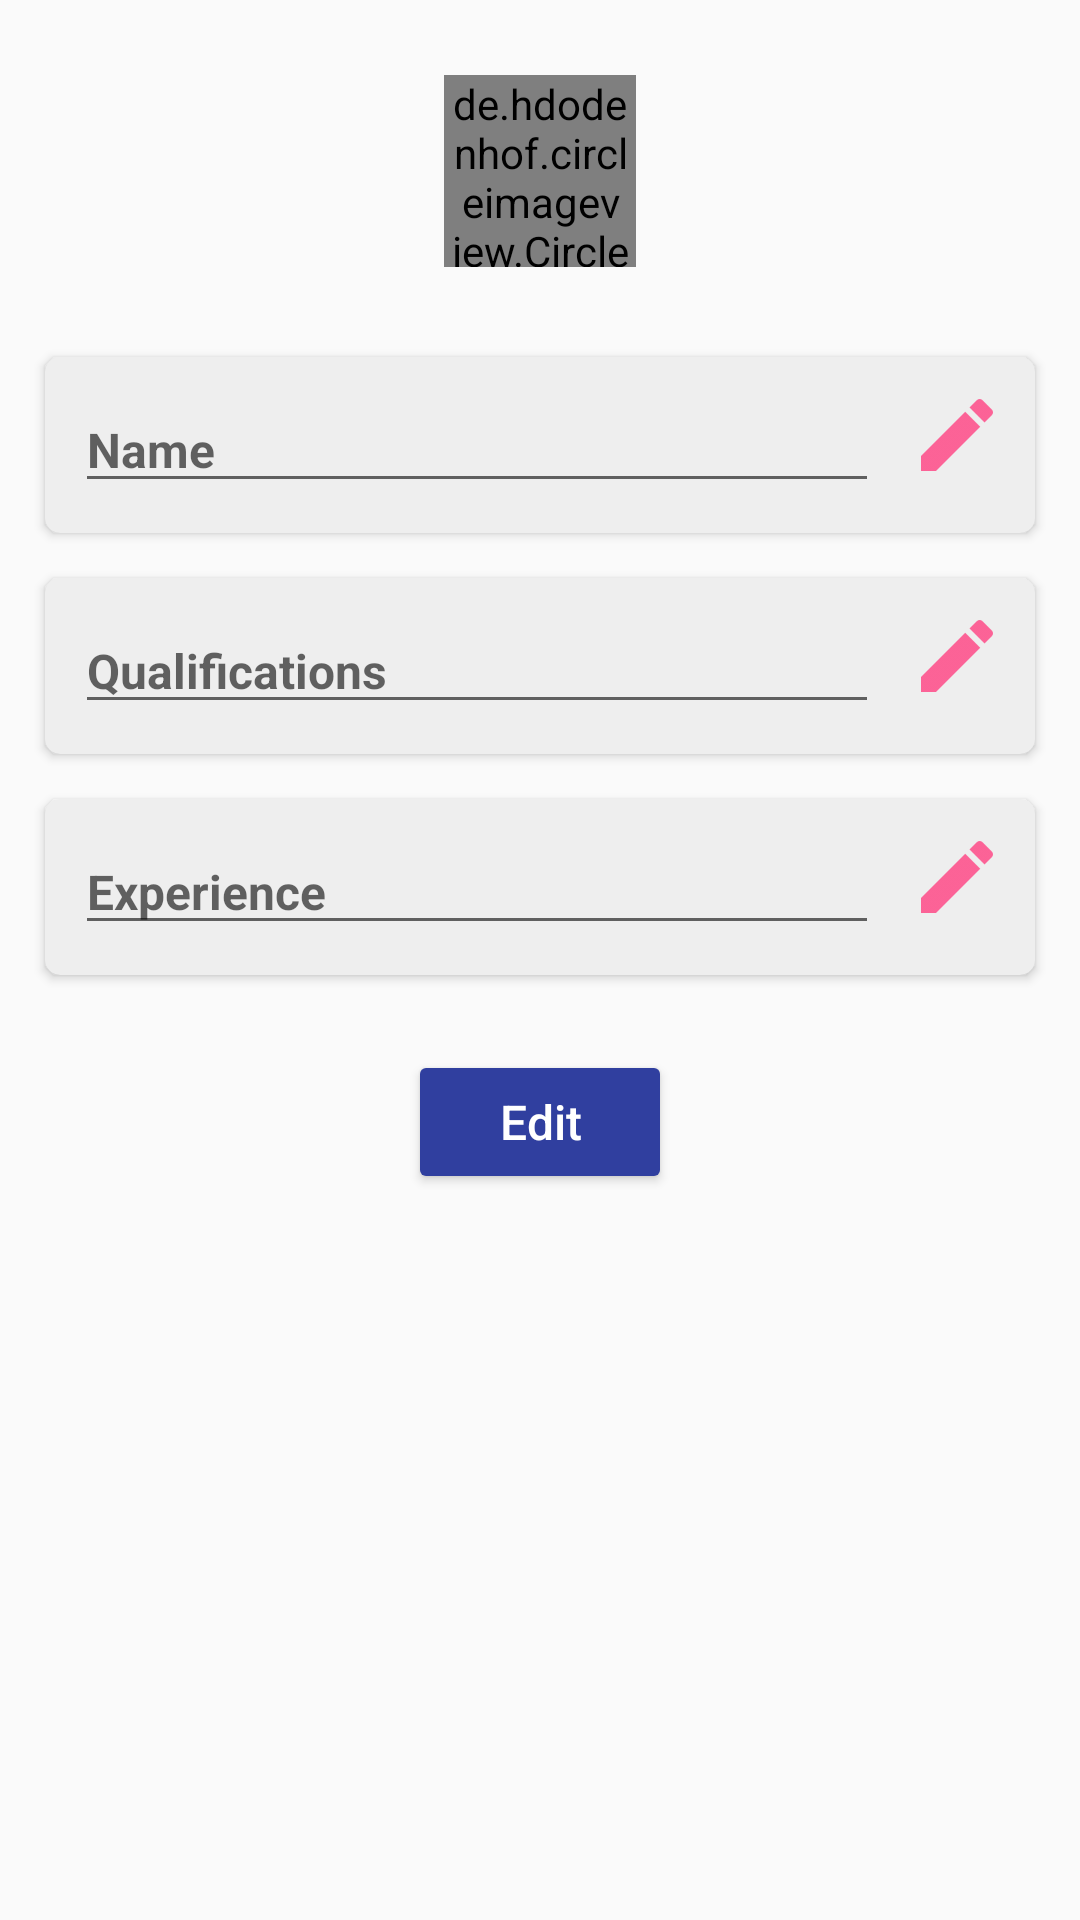

Named icons in this screenshot (1080*1920) and their centers, [x,y]:
edit: [957,435], [957,656], [957,877]
